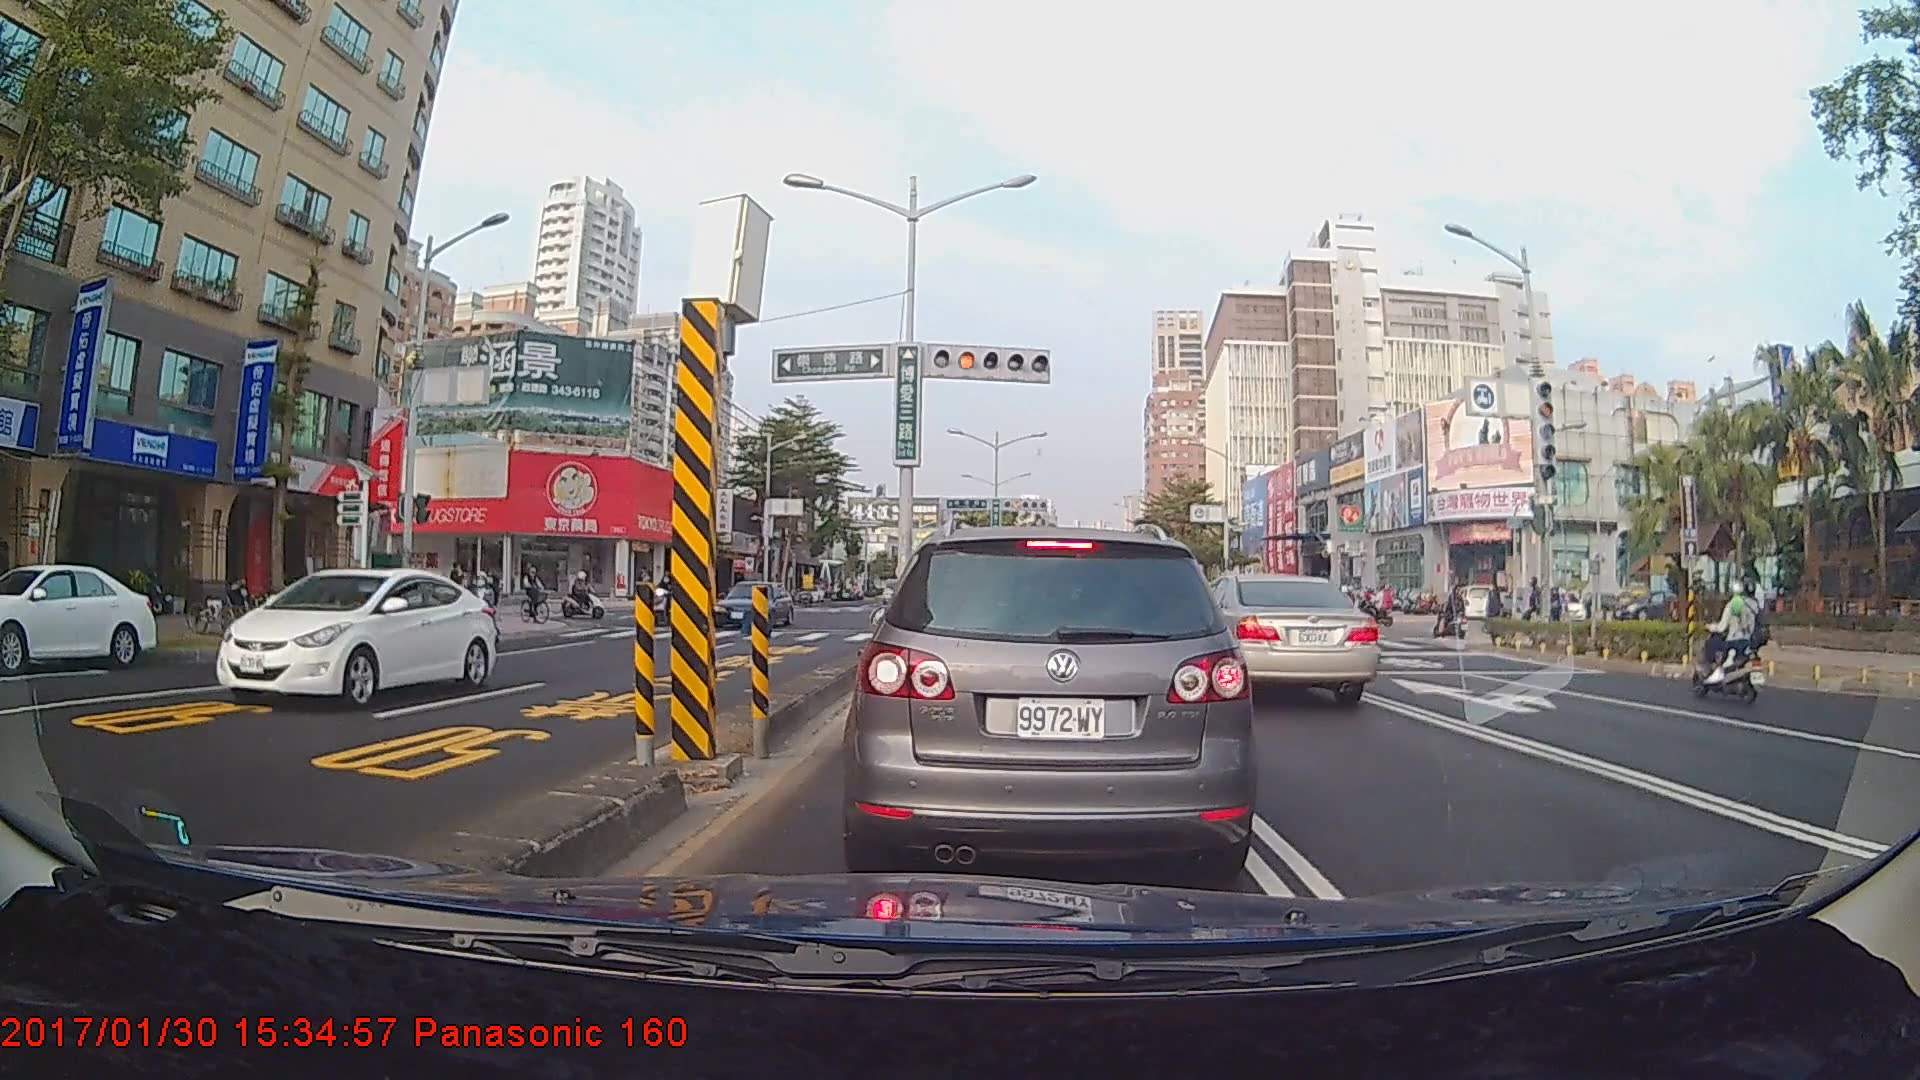pedestrian: (1745, 575, 1771, 645), (1484, 579, 1508, 637), (448, 558, 468, 621)
rider: (1686, 578, 1775, 705), (561, 568, 613, 625), (518, 559, 553, 629), (1436, 582, 1473, 646)
vehicle: (853, 519, 1249, 880), (214, 565, 497, 709), (1172, 571, 1378, 707), (0, 561, 164, 671), (711, 580, 794, 629)
